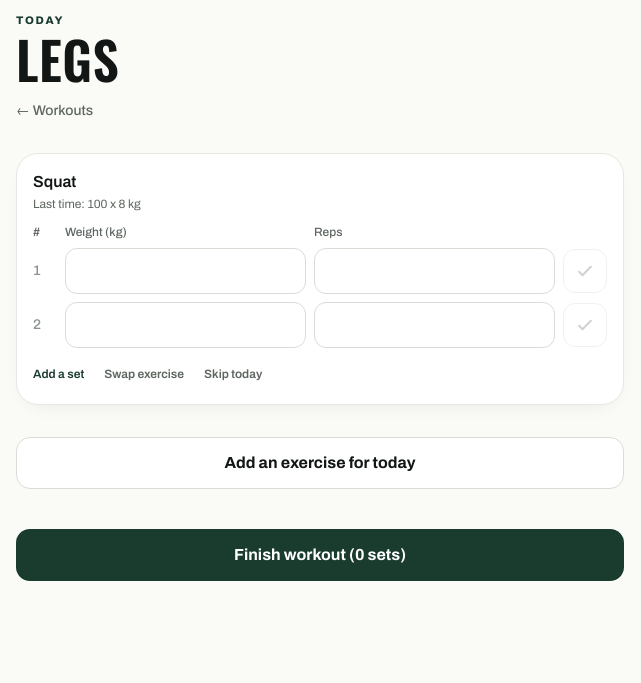
Test: changing the line-up mid workout › keeps logged sets when a new exercise is added
The width and height of the screenshot is (641, 683).
Type "100" into the number field named "Squat set 1 weight" at (186, 271), box [65,248,306,294]
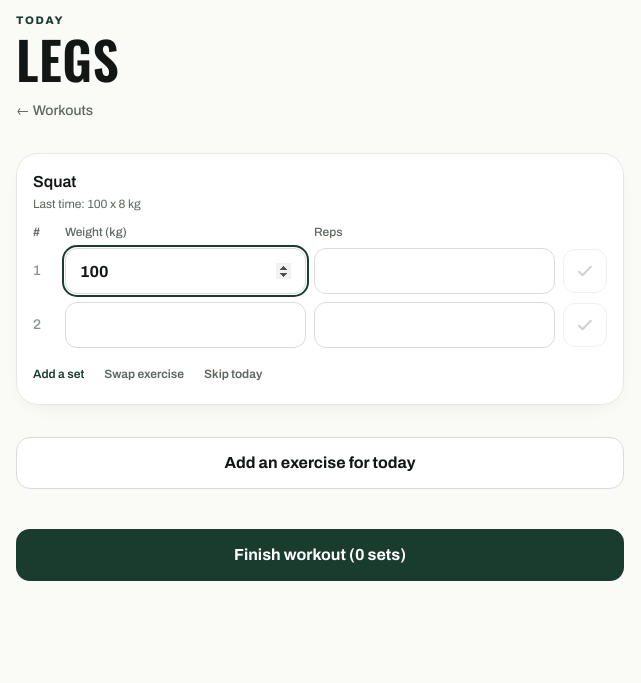
Type "8" into the number field named "Squat set 1 reps" at (434, 271), box [314,248,555,294]
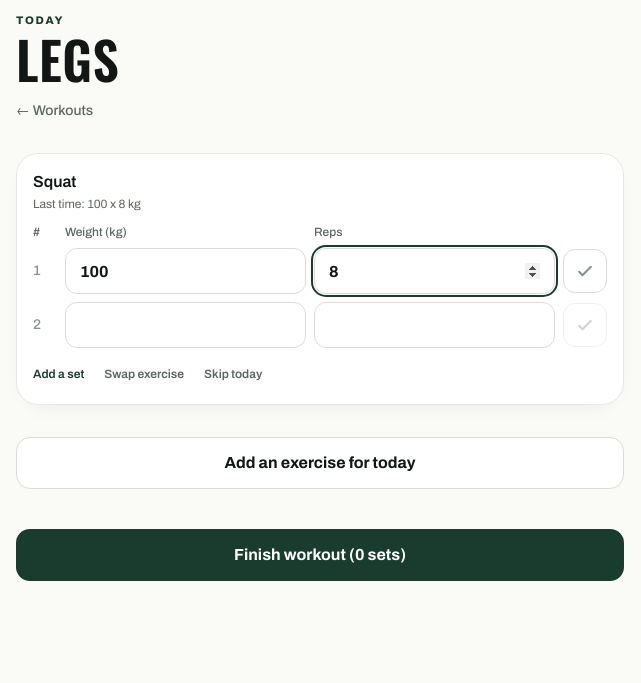
Click the button named "Log Squat set 1" at (585, 271), box [563,249,607,293]
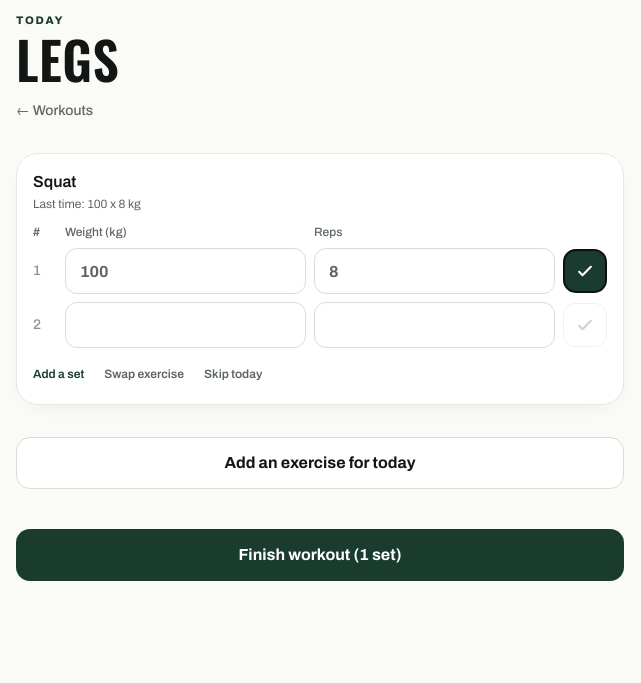
Expected: the button named "Undo Squat set 1" is shown, [563,249,607,293]
Click the button "Add an exercise for today" at (320, 463), box [16,437,624,489]
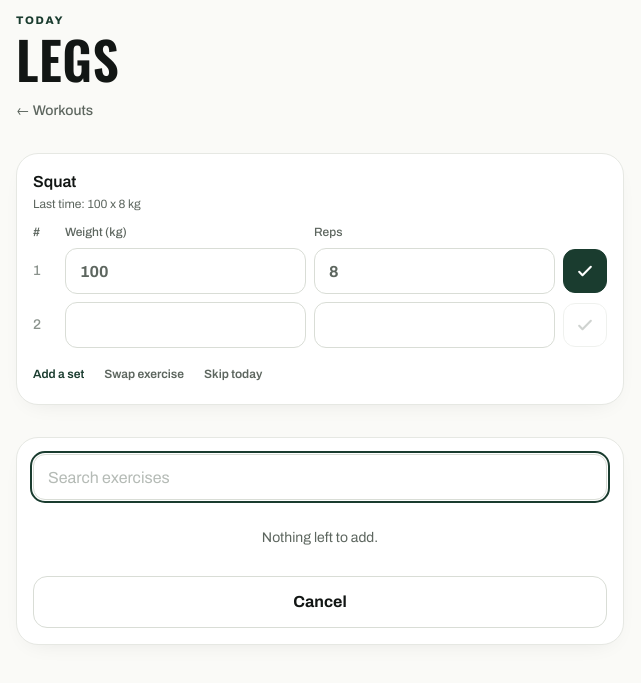
Type "RDL" into the field labelled "Search exercises" at (320, 477), box [33,454,607,500]
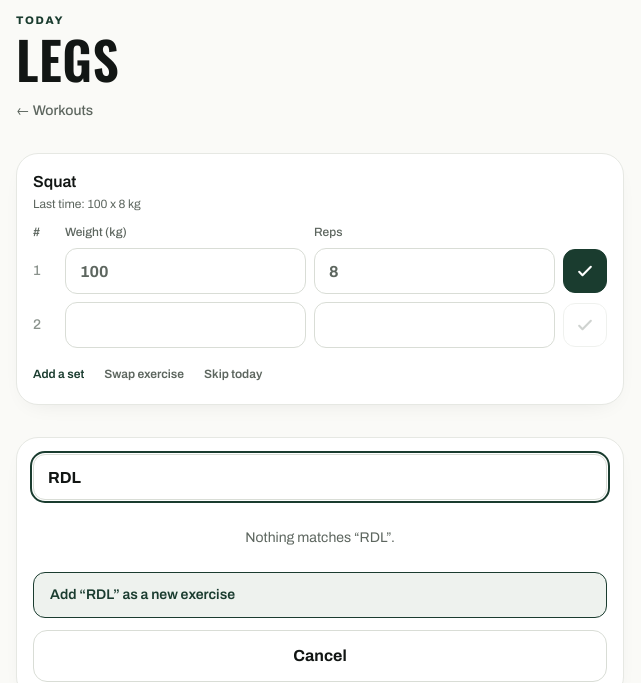
Click the button "Add “RDL” as a new exercise" at (68, 595), box [33,572,607,618]
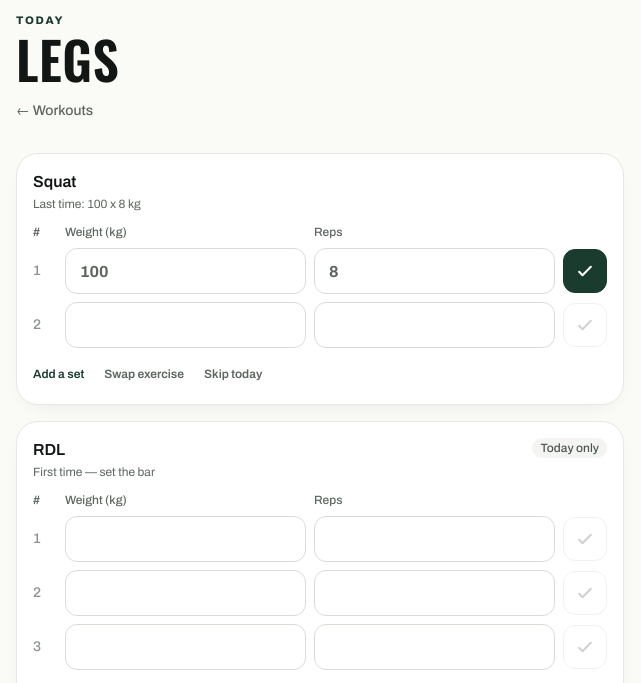
Expected: the button named "Undo Squat set 1" is shown, [563,249,607,293]
Expected: the number field named "RDL set 1 weight" is shown, [65,516,306,562]
